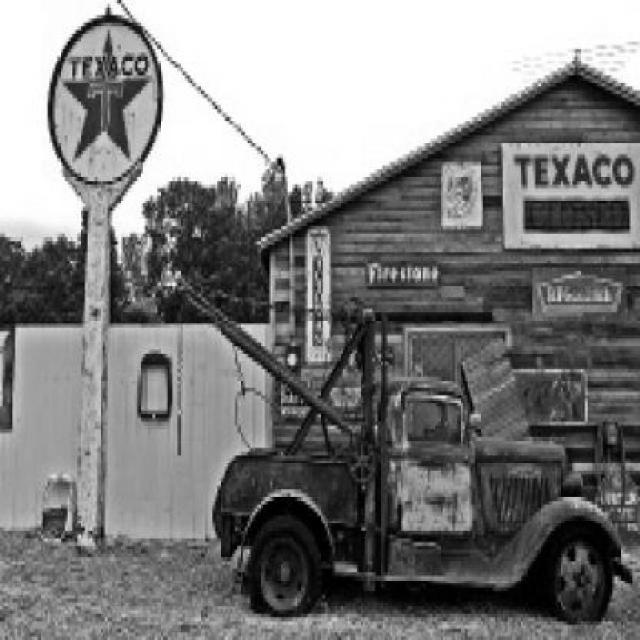Tow Truck: (177, 285, 634, 626)
